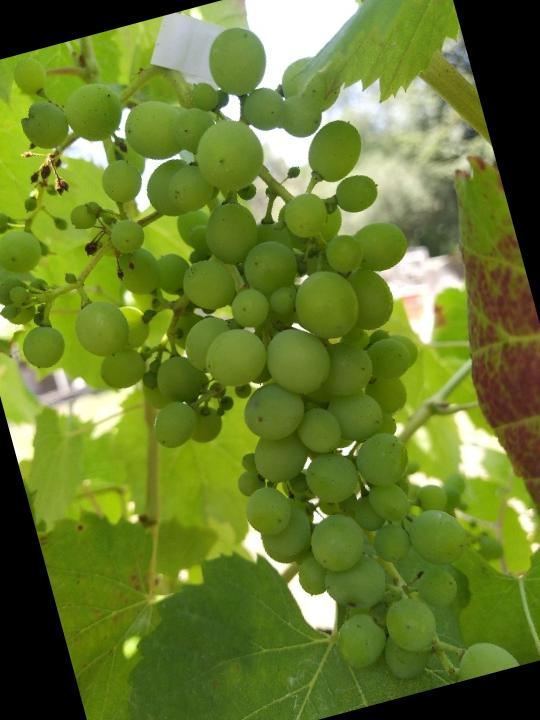grape: (0, 0, 522, 720)
